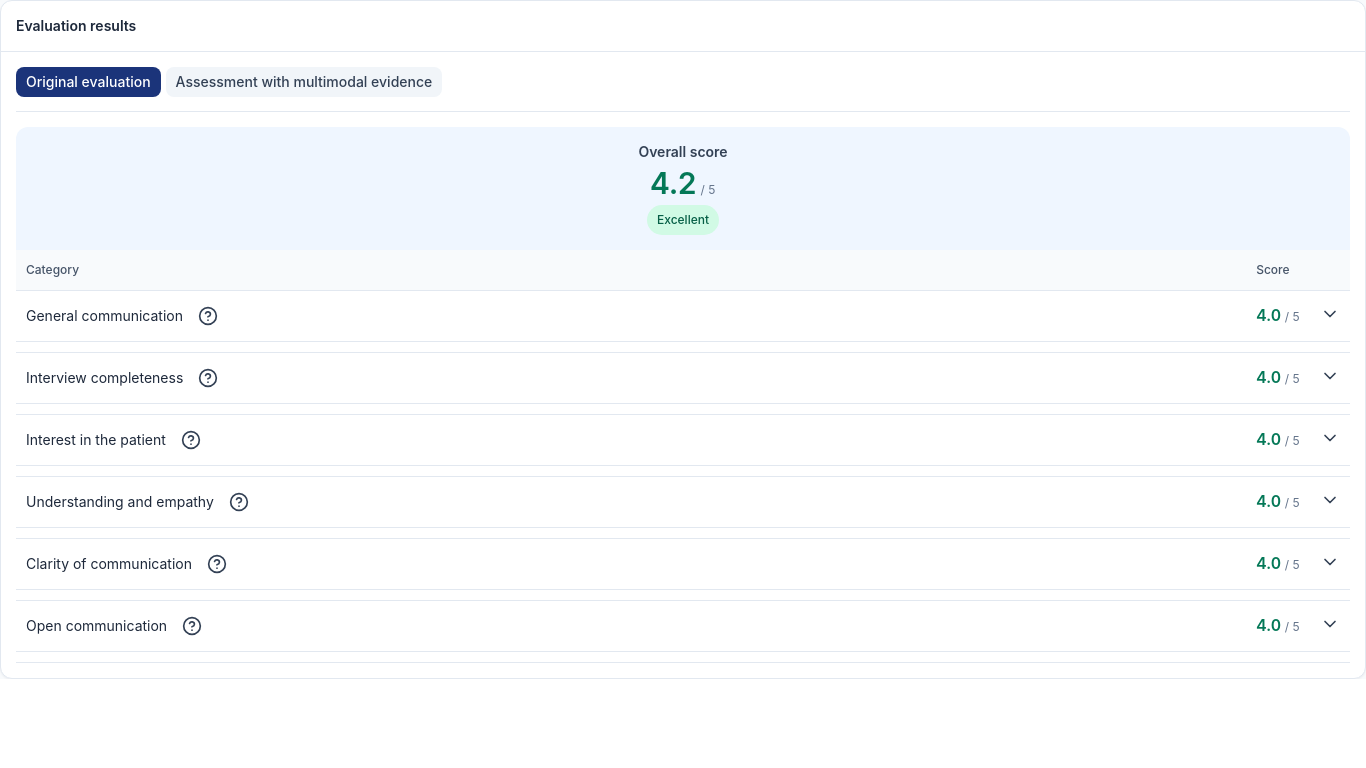
it: Evaluation condition selector › keeps criteria and sources without an extra multimodal evidence section
Step 1. Click the button named "View assessment criteria for Interest in the patient" → (191, 440), box x1=176 y1=425 x2=206 y2=455
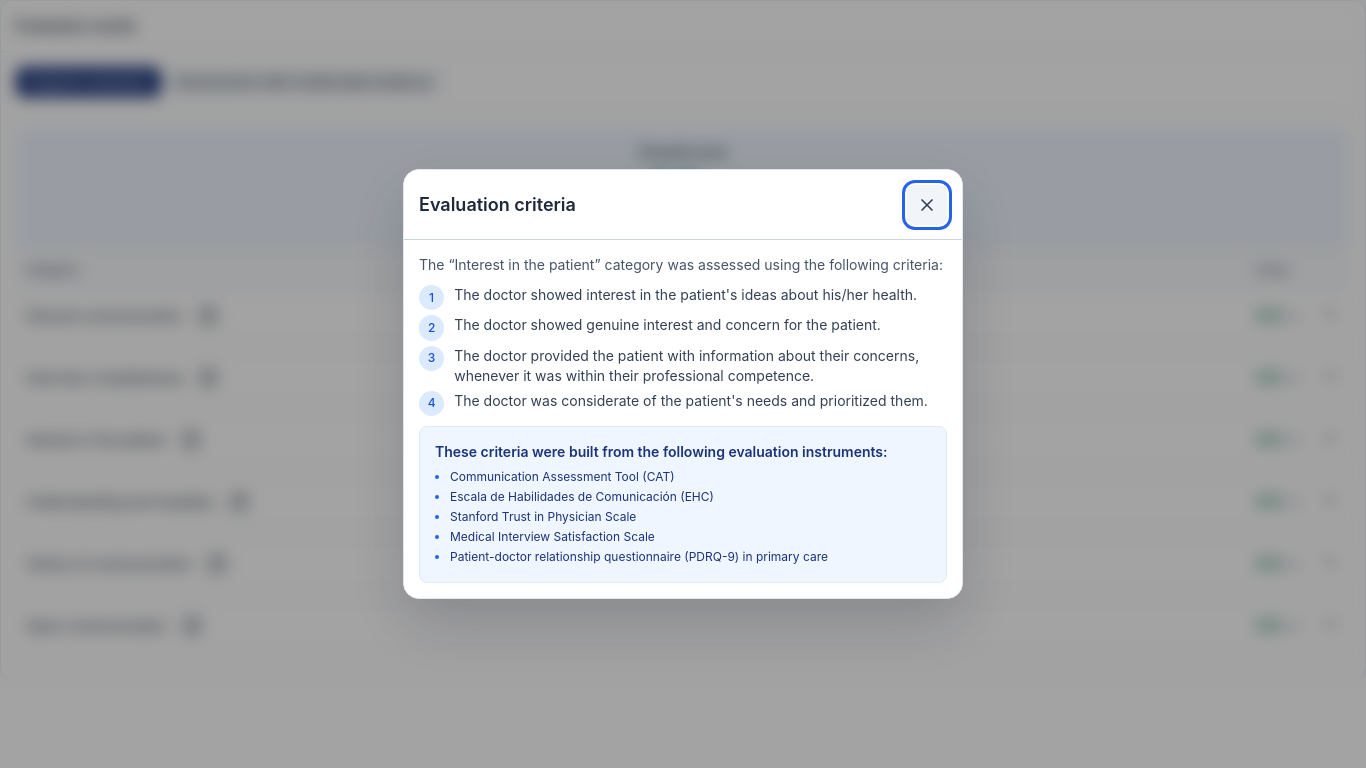
expect the text "The doctor showed interest in the patient's ideas about his/her health." is shown: met, box x1=454 y1=285 x2=947 y2=305
expect the text "The doctor showed genuine interest and concern for the patient." is shown: met, box x1=454 y1=315 x2=947 y2=335
expect the text "The doctor provided the patient with information about their concerns, whenever it was within their professional compete" is shown: met, box x1=454 y1=347 x2=919 y2=384
Step 2. Click the button named "Close" → (927, 205), box x1=907 y1=185 x2=947 y2=225
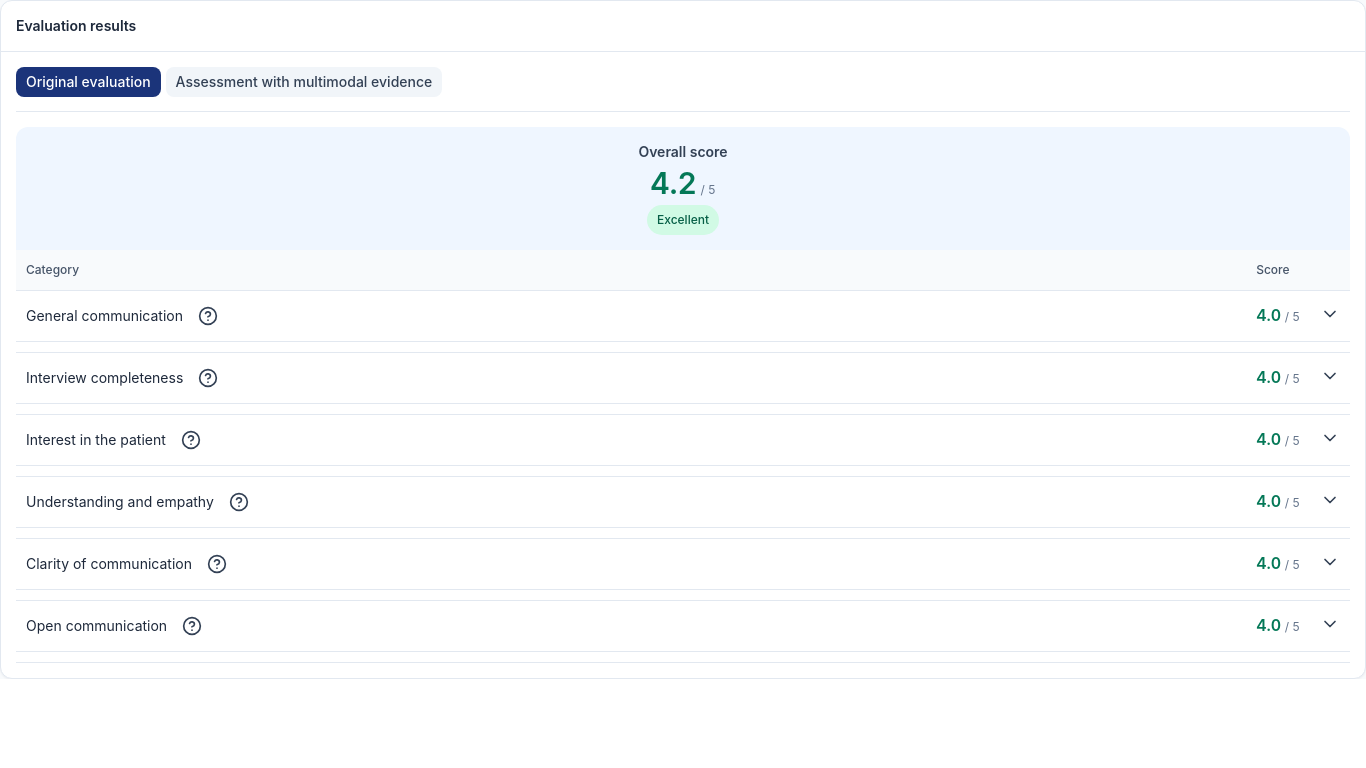
Step 3. Click the button "Assessment with multimodal evidence" → (304, 82), box x1=166 y1=67 x2=442 y2=97
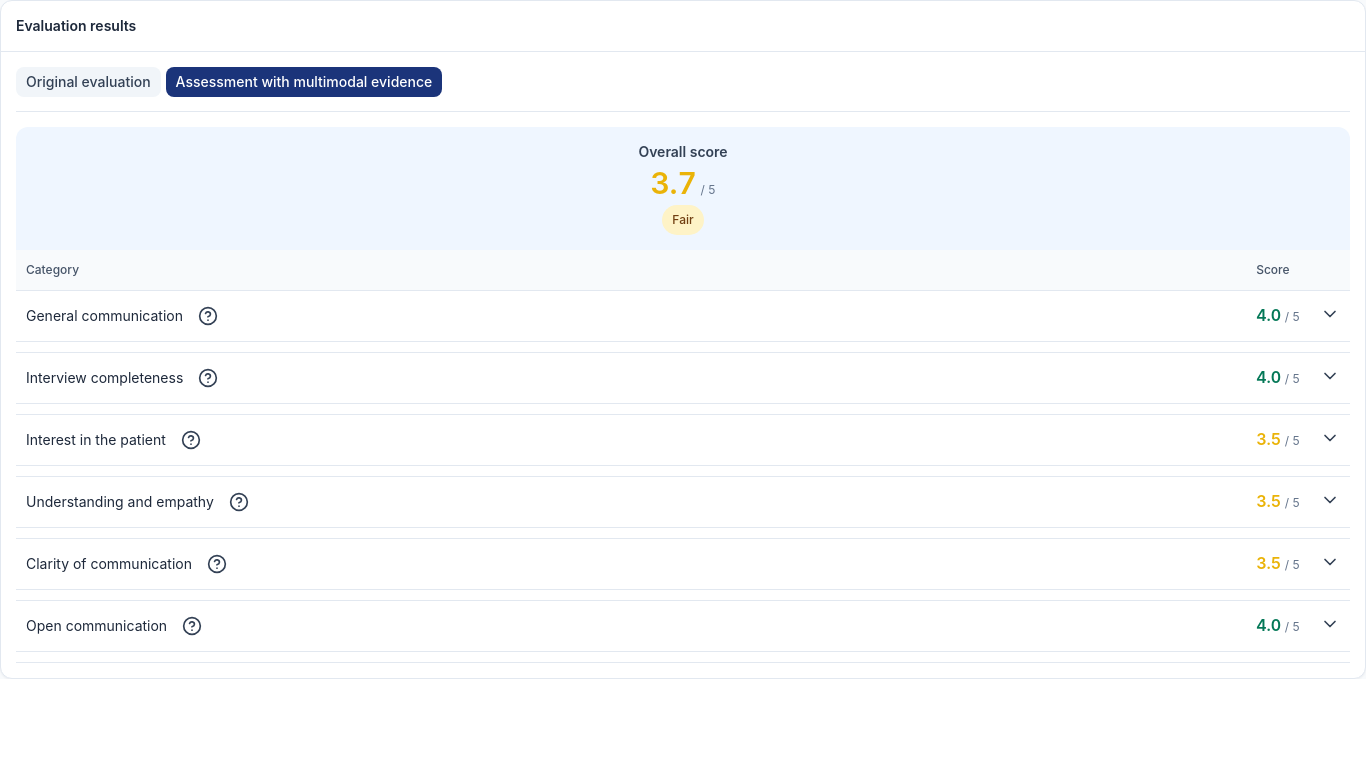
Step 4. Click the button named "View assessment criteria for Interest in the patient" → (191, 440), box x1=176 y1=425 x2=206 y2=455
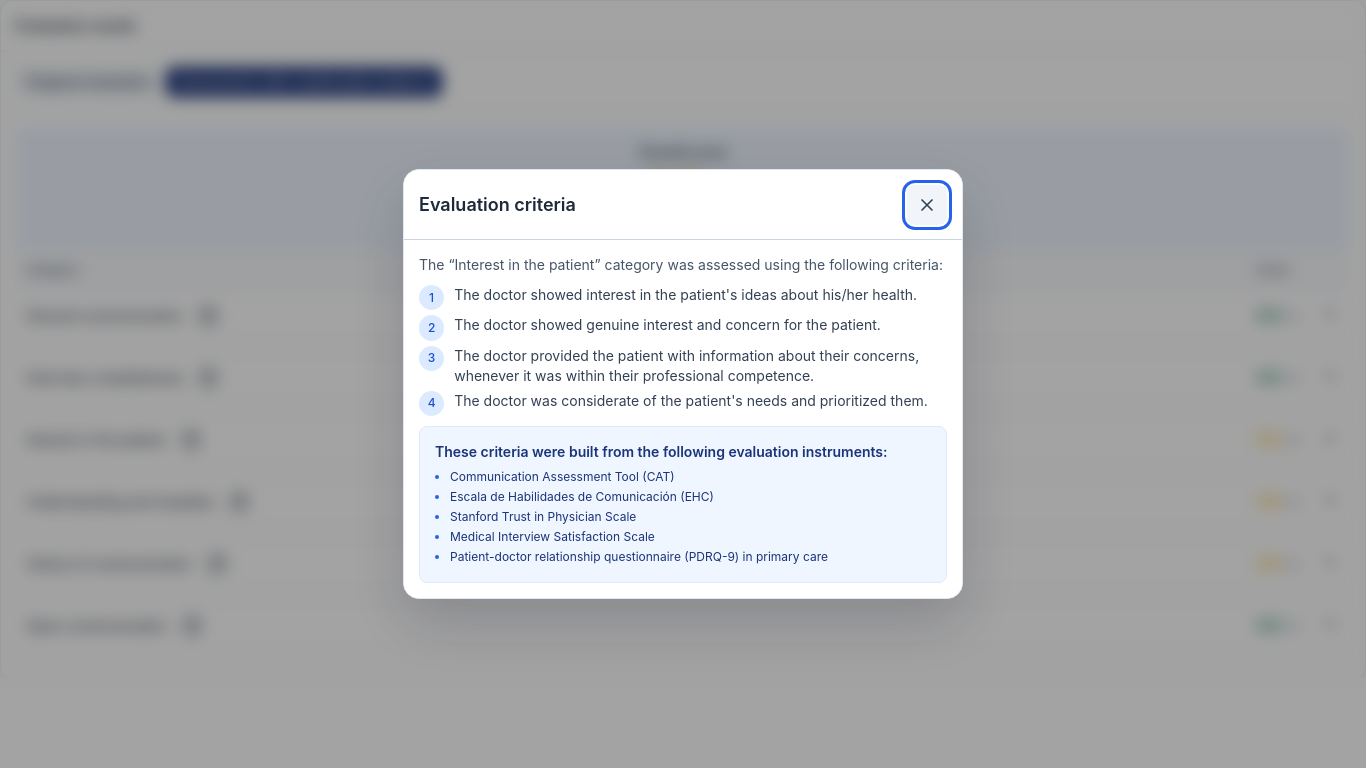
expect the text "The doctor showed interest in the patient's ideas about his/her health." is shown: met, box x1=454 y1=285 x2=947 y2=305
expect the text "The doctor showed genuine interest and concern for the patient." is shown: met, box x1=454 y1=315 x2=947 y2=335
expect the text "The doctor provided the patient with information about their concerns, whenever it was within their professional compete" is shown: met, box x1=454 y1=347 x2=919 y2=384
